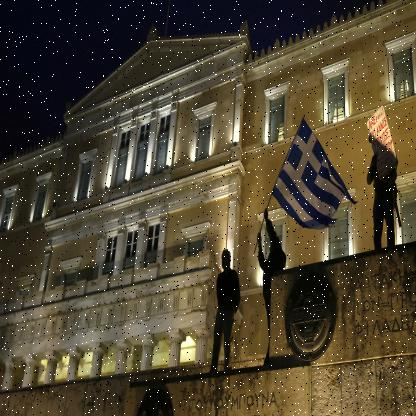gr: (274, 117, 347, 233)
